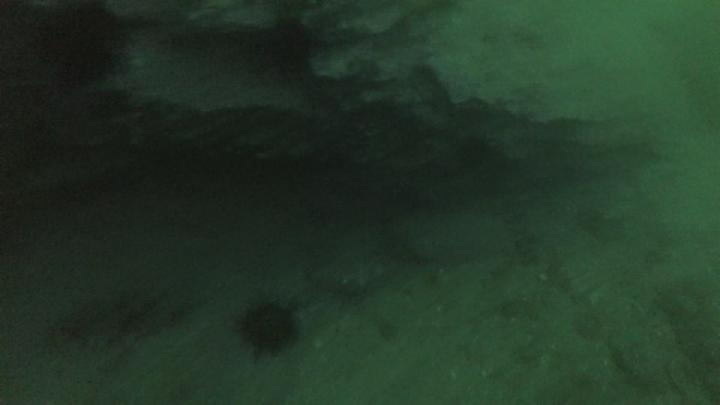echinus: (232, 295, 302, 362)
